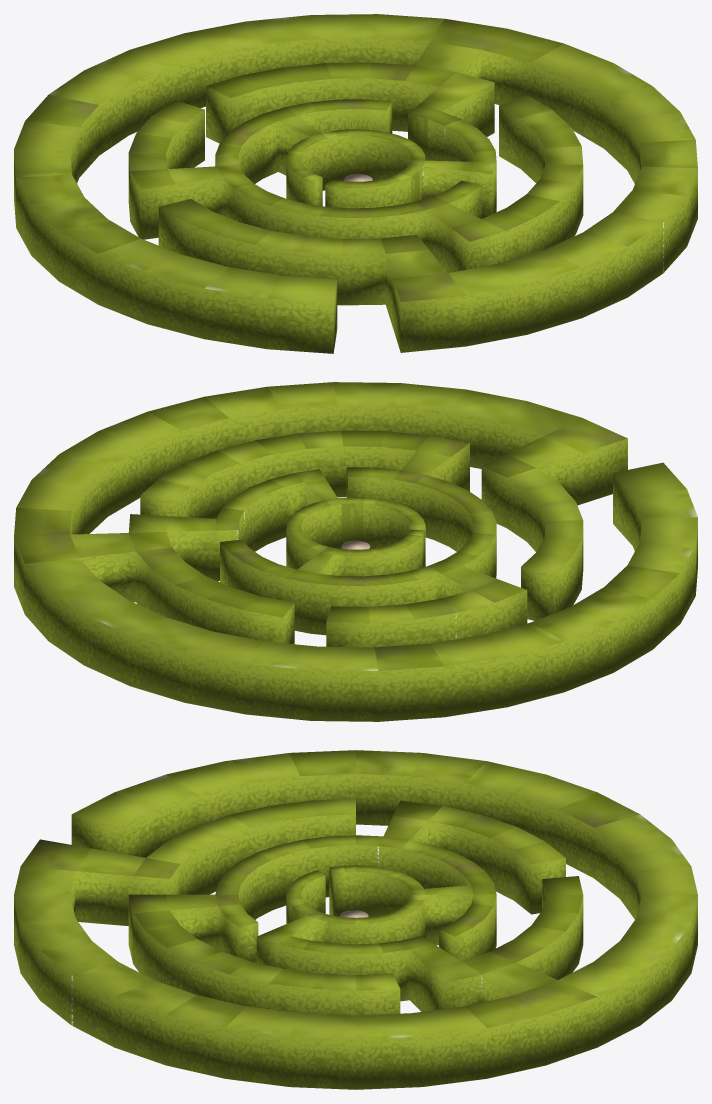
Rendered from Buckingham Palace.fbx.
The picture shows the model from 3 angles, top to bottom: view 1: azimuth 30°, elevation 25°; view 2: azimuth 150°, elevation 25°; view 3: azimuth 270°, elevation 25°; orthographic projection.
Visible parts, largest first — view 1: 平面.001; view 2: 平面.001; view 3: 平面.001.
Part boxes in pixels (bbox=[...]): 平面.001: bbox=[14, 14, 697, 353]; 平面.001: bbox=[14, 382, 697, 721]; 平面.001: bbox=[14, 750, 697, 1089].
Bounding box in the file's own units: 17961 × 1512 × 17961.
Materials: 2 (1 with a texture image).
